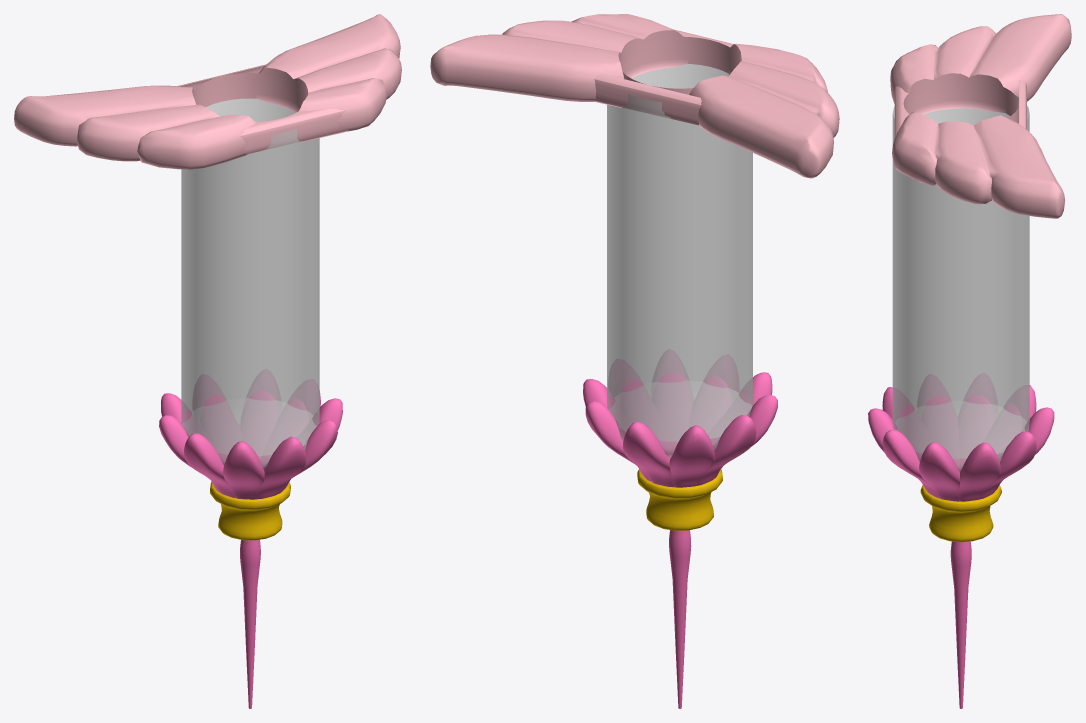
The model's file is sailor_barrel.fbx.
3 renders of one model, left to right at view 1: azimuth 30°, elevation 25°; view 2: azimuth 150°, elevation 25°; view 3: azimuth 270°, elevation 25°, orthographic. The views are drawn at different scales.
Visible parts, largest first — view 1: sailor_barrel; view 2: sailor_barrel; view 3: sailor_barrel.
Boxes of the visible parts, <box> form: sailor_barrel: <box>14,14,401,708</box>; sailor_barrel: <box>430,14,839,708</box>; sailor_barrel: <box>868,14,1071,708</box>.
Bounding box in the file's own units: 0.4489 × 0.7106 × 0.2144.
